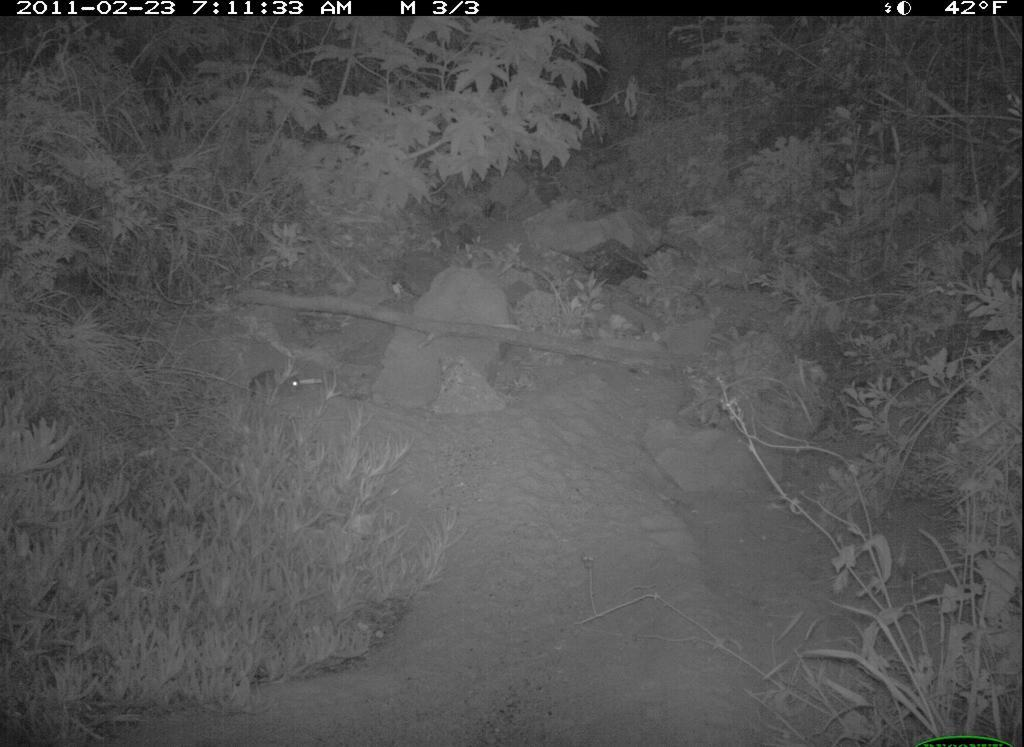rabbit: (237, 356, 314, 408)
